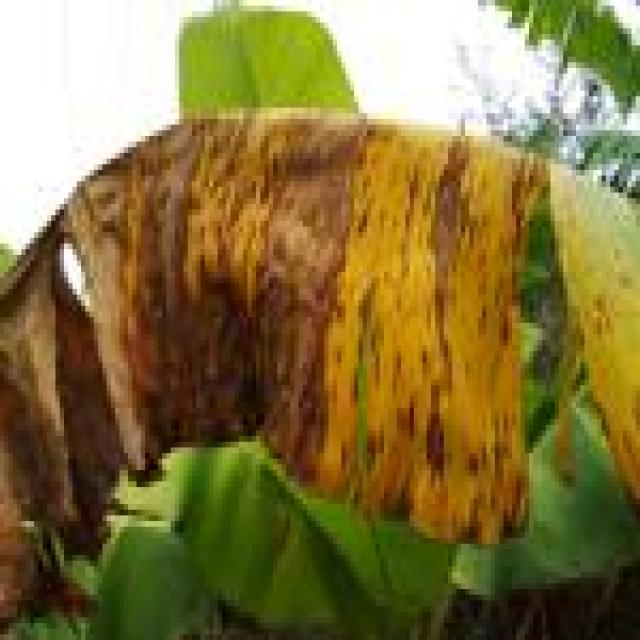Early_rust: (0, 86, 640, 592)
